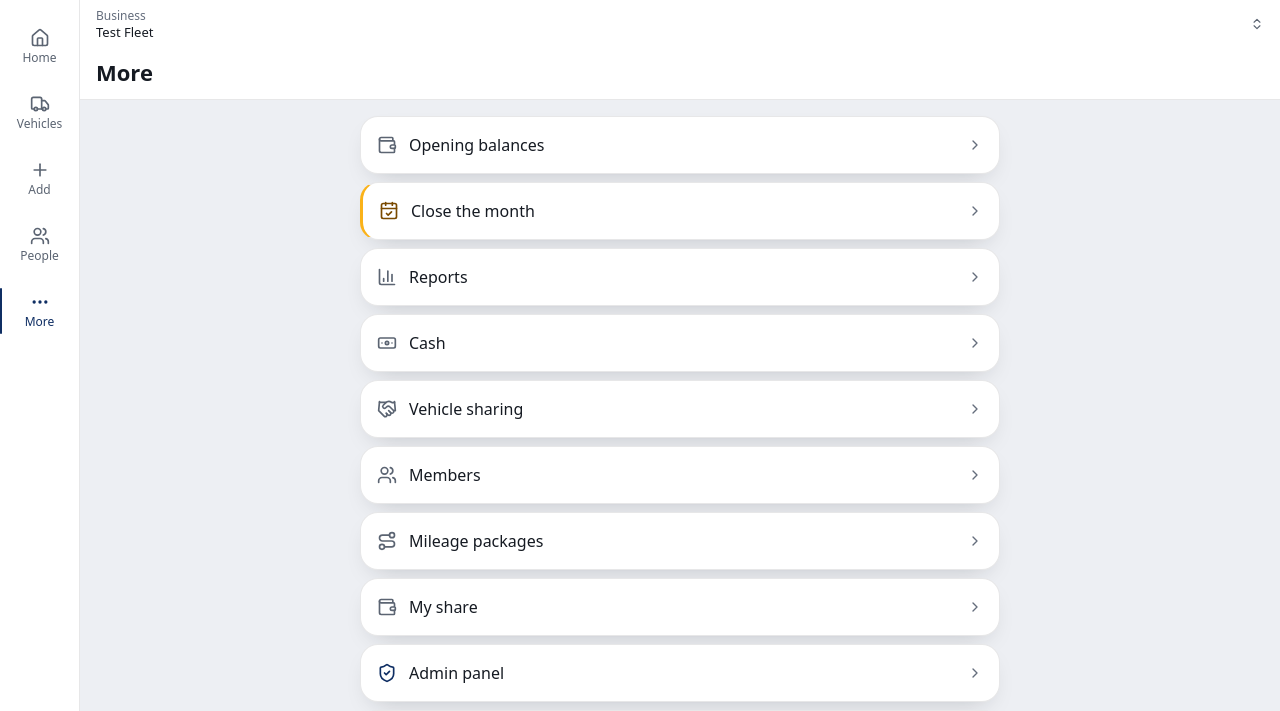
Test: a platform admin with a business reaches the admin panel via More, and it lives outside the tab bar
This screenshot has width=1280, height=711.
Click the button "Admin panel".
click(680, 673)  # box x1=360 y1=644 x2=1000 y2=702
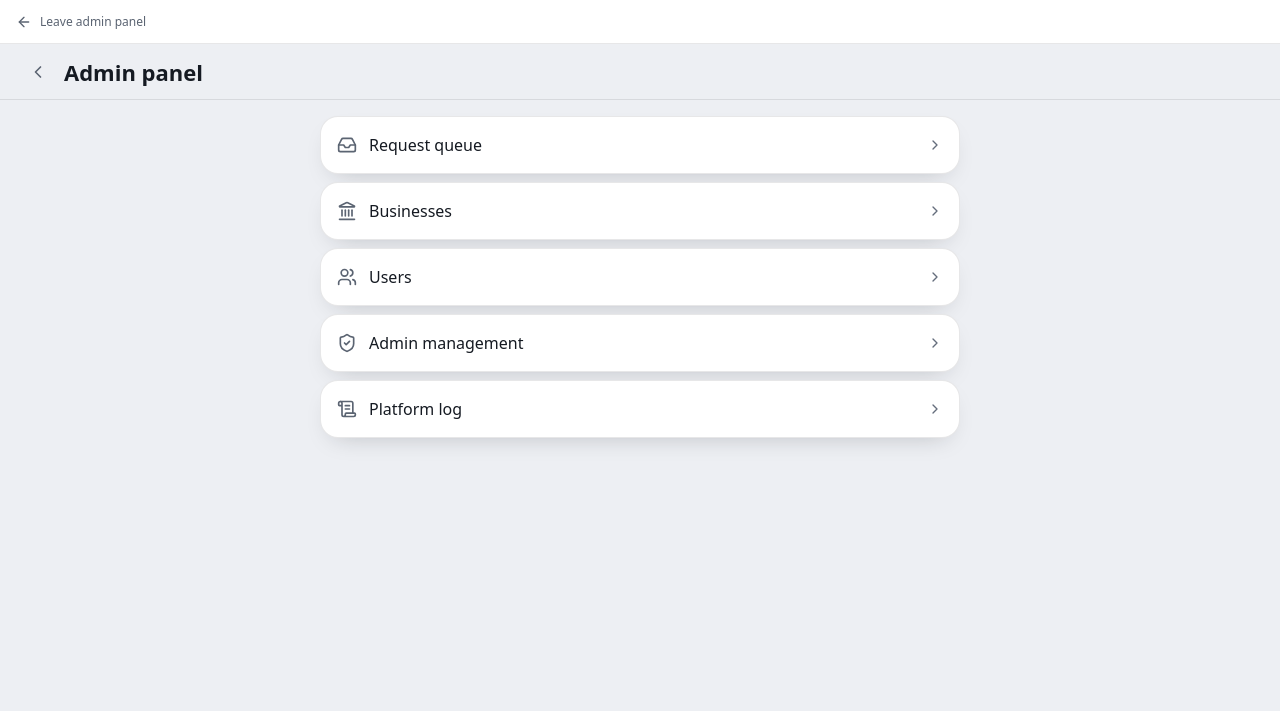
Result: the heading "Admin panel" is shown at x1=64 y1=58 x2=203 y2=86
Click the button "Request queue".
click(640, 145)  # box x1=320 y1=116 x2=960 y2=174
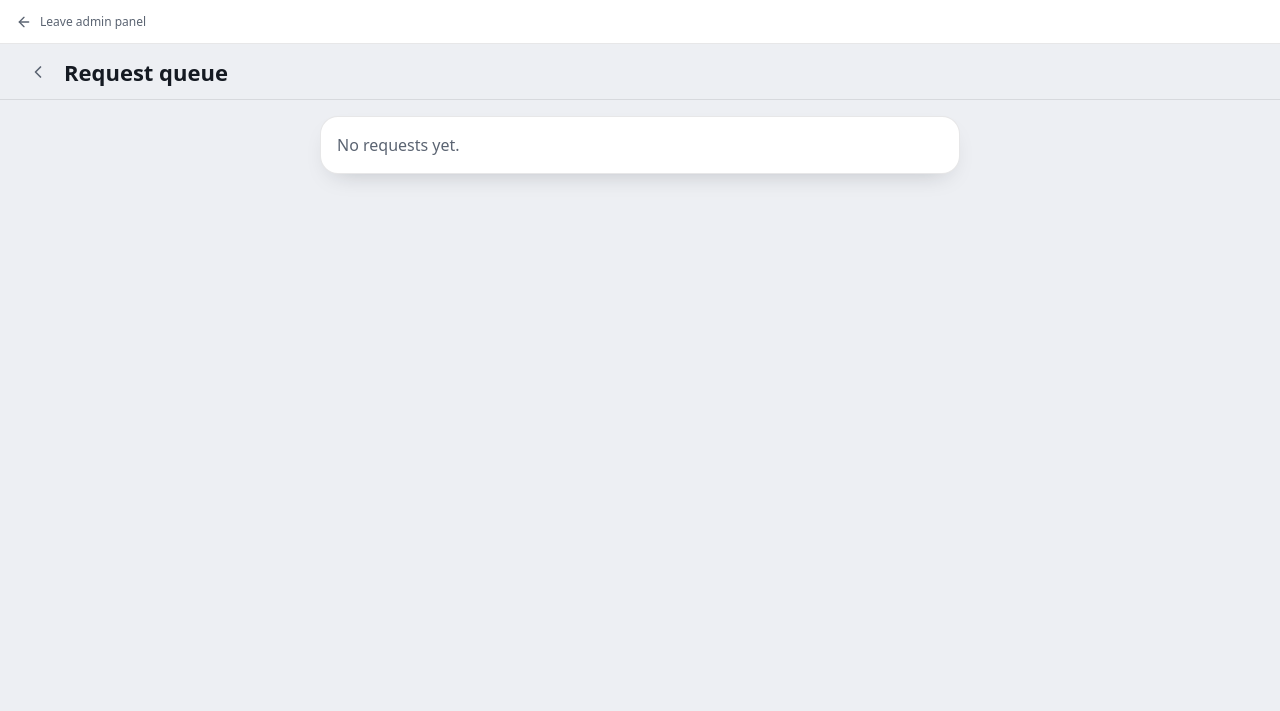
Result: the text "No requests yet." is shown at x1=337 y1=134 x2=460 y2=156
